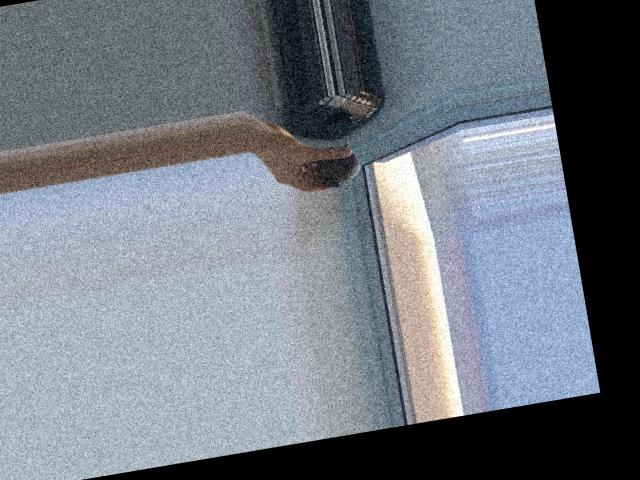beet: (308, 140, 363, 190)
